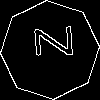Z: (25, 25, 73, 59)
